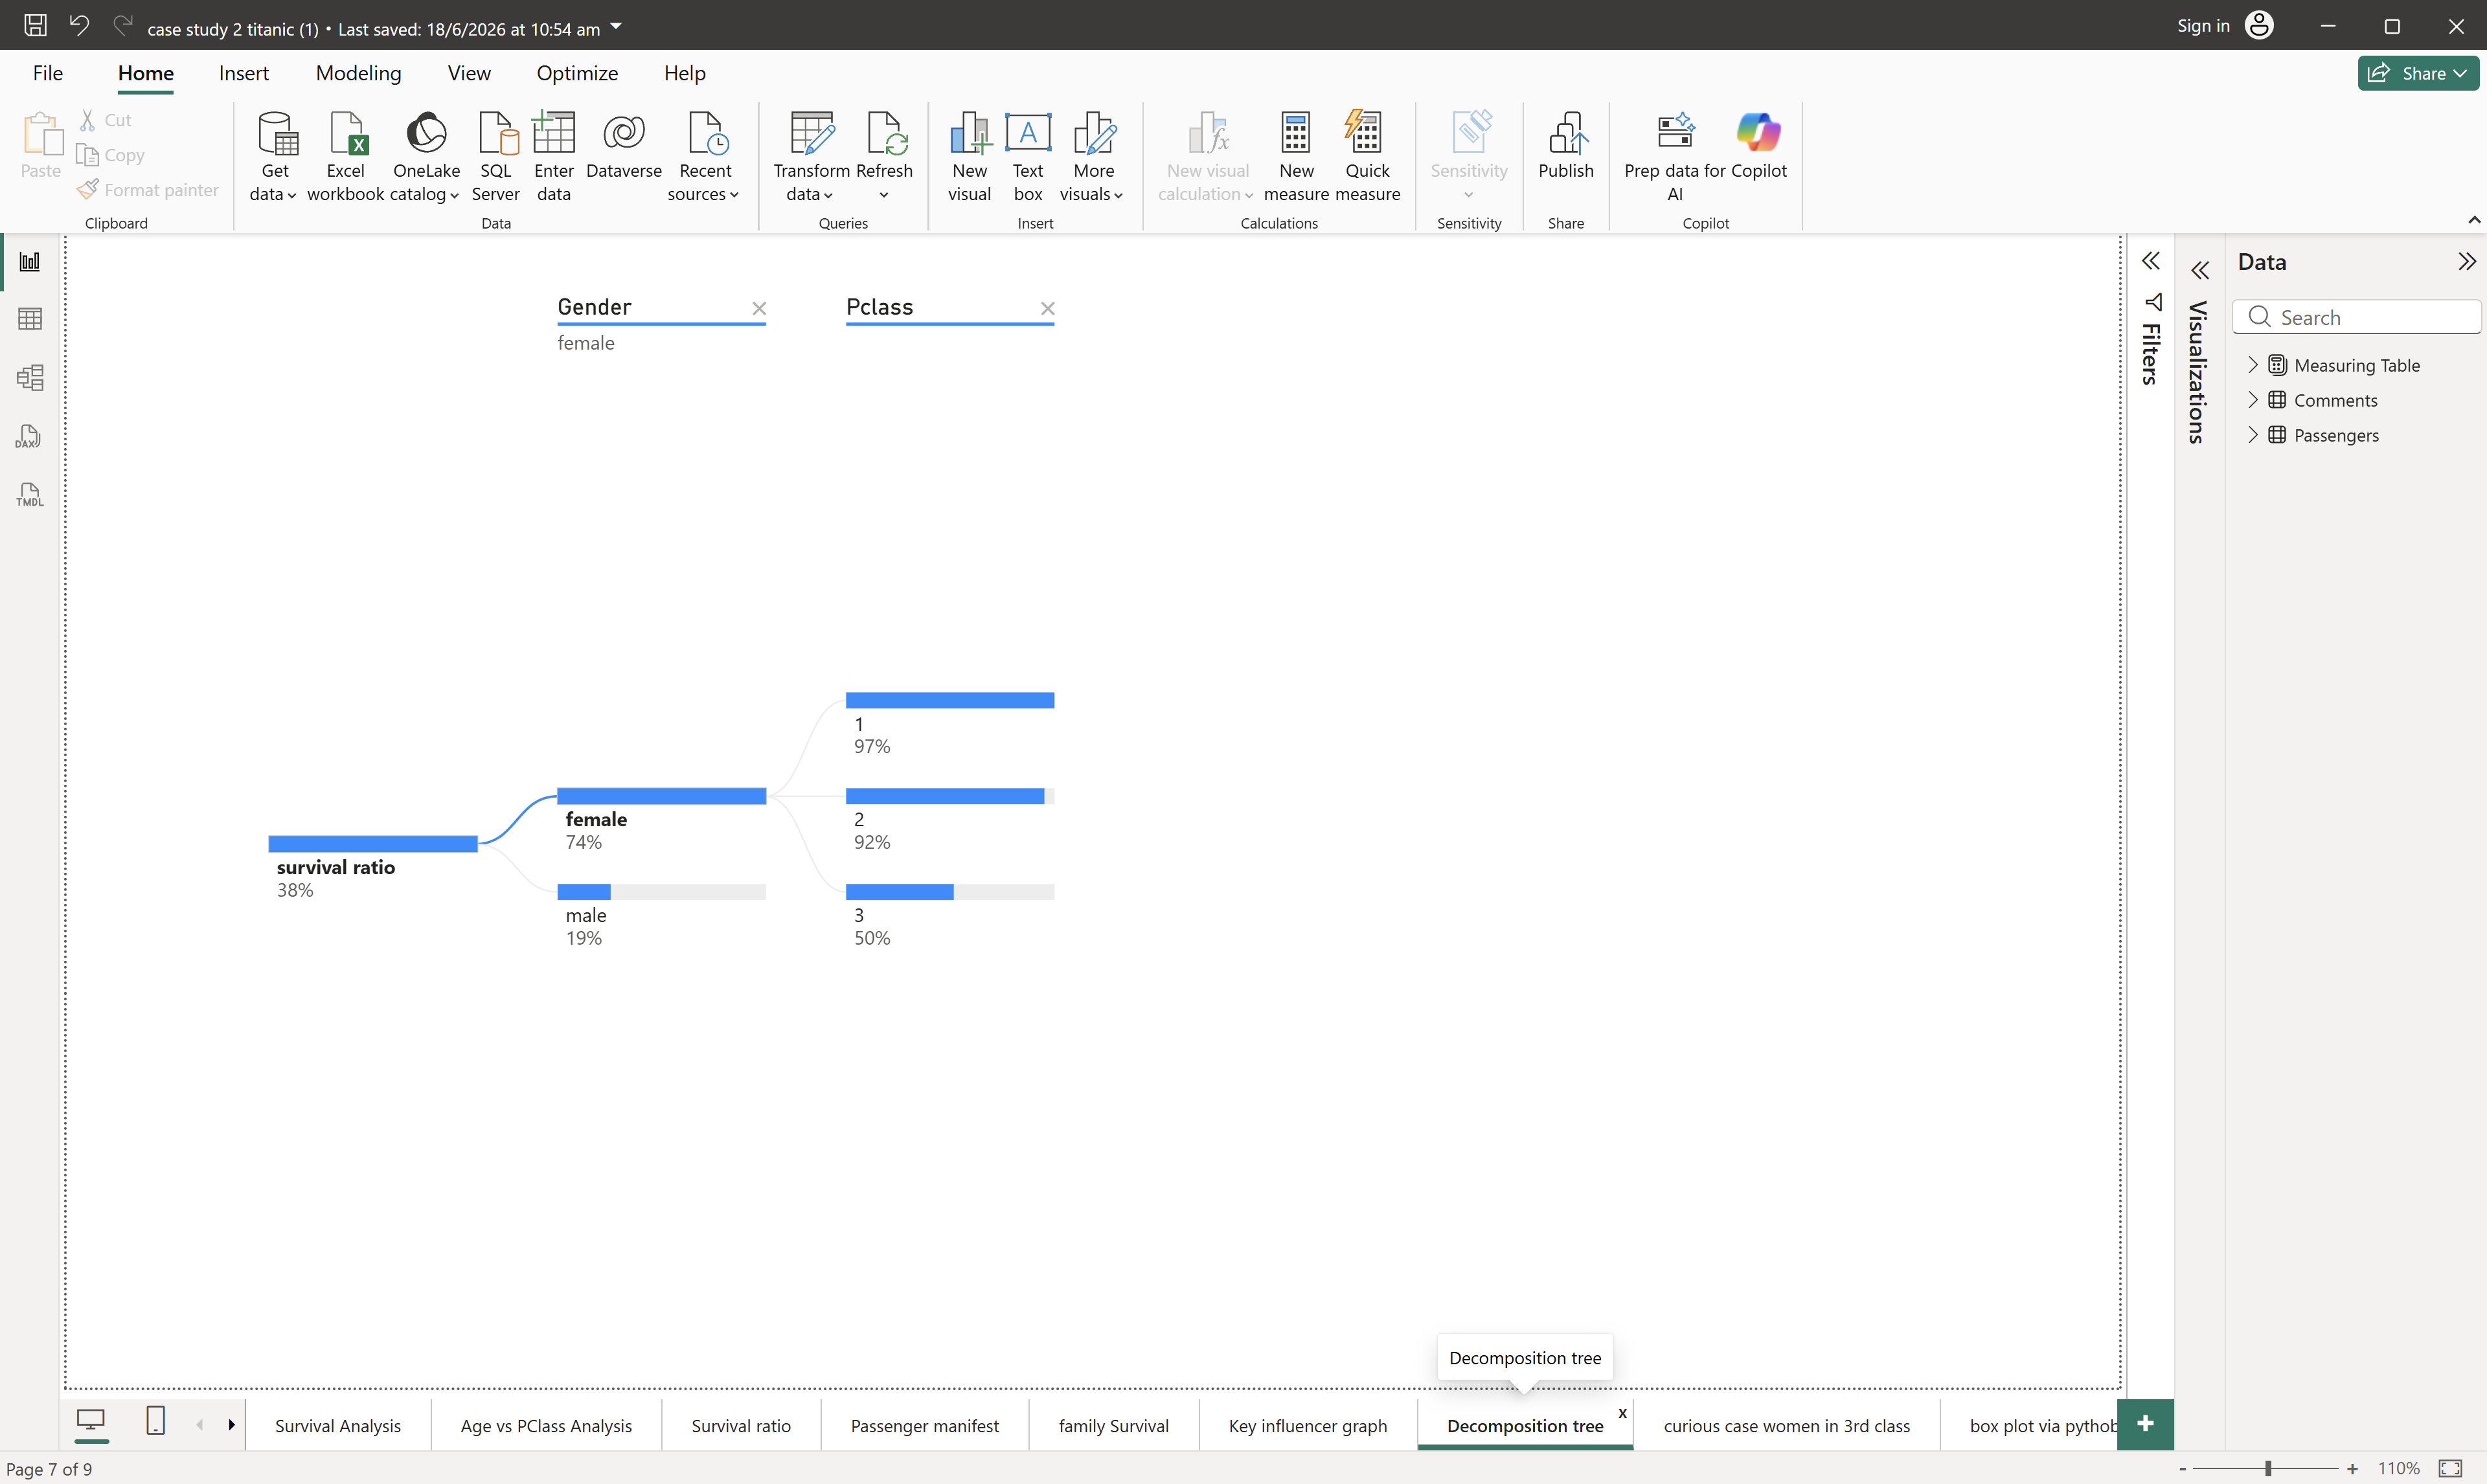

Layout of this report page (visuals, bound fields, positions):
{"tool":"powerbi","page":{"name":"Decomposition tree","canvas":[1280,720],"ordinal":6},"visuals":[{"type":"decompositionTreeVisual","fields":{"ExplainBy":["Passengers.Gender","Passengers.Pclass"],"Analyze":["Comments.survival ratio"]},"box":[96.7,21.1,670,698.9],"z":1}]}

Visuals, with their boxes on the page's 1280x720 design canvas (x1, y1, x2, y2). These are canvas units, not pixel positions in the 2487x1484 screenshot, which may show the page scaled, cropped or inside an application window:
decompositionTreeVisual - Passengers.Gender x Passengers.Pclass: BBox(97, 21, 767, 720)
